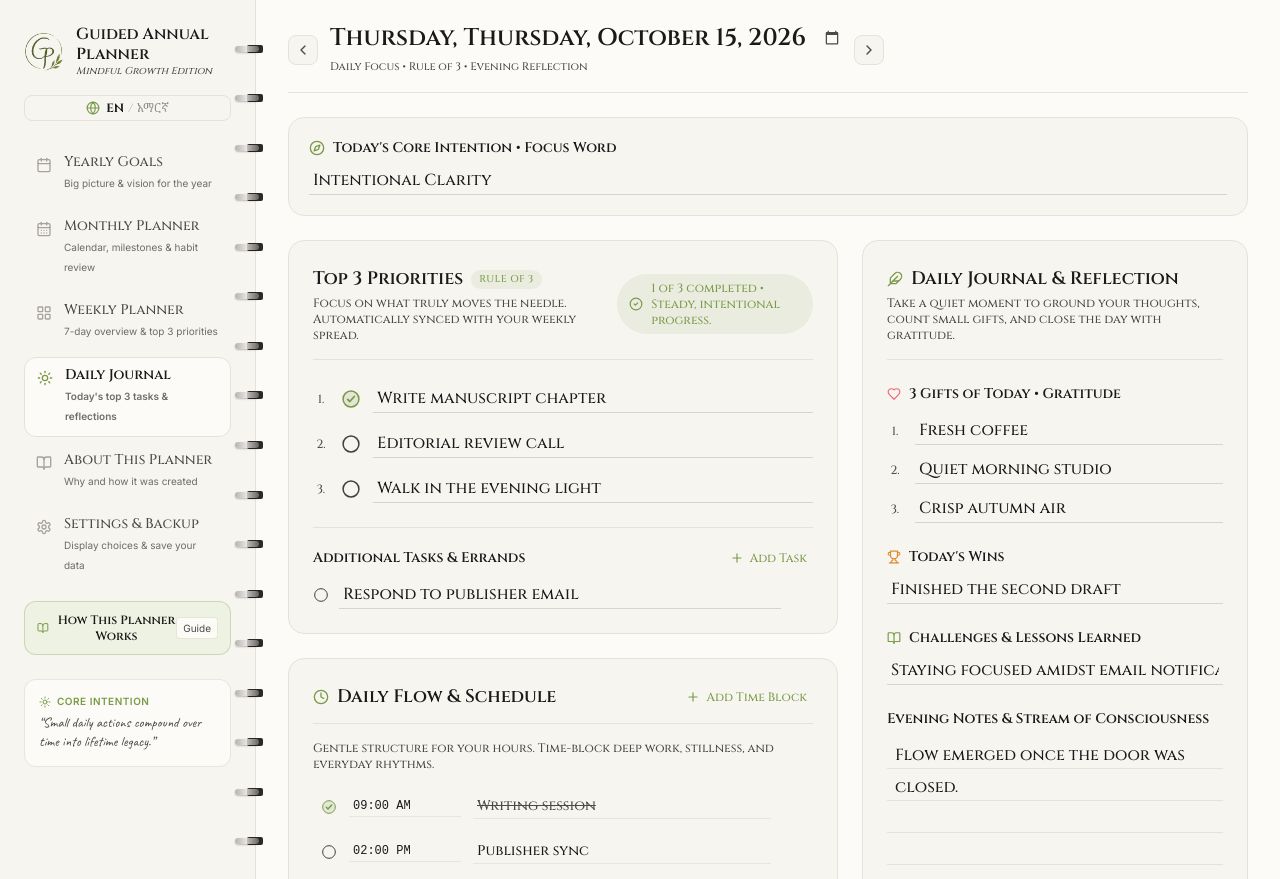
Test: DailyViewPage Component › allows adding and removing secondary tasks
Expected: the field showing "Respond to publisher email" below "Additional Tasks & Errands" is shown, [339,580,781,609]
Click the button "Add Task".
click(768, 558)  # box [724,548,813,568]
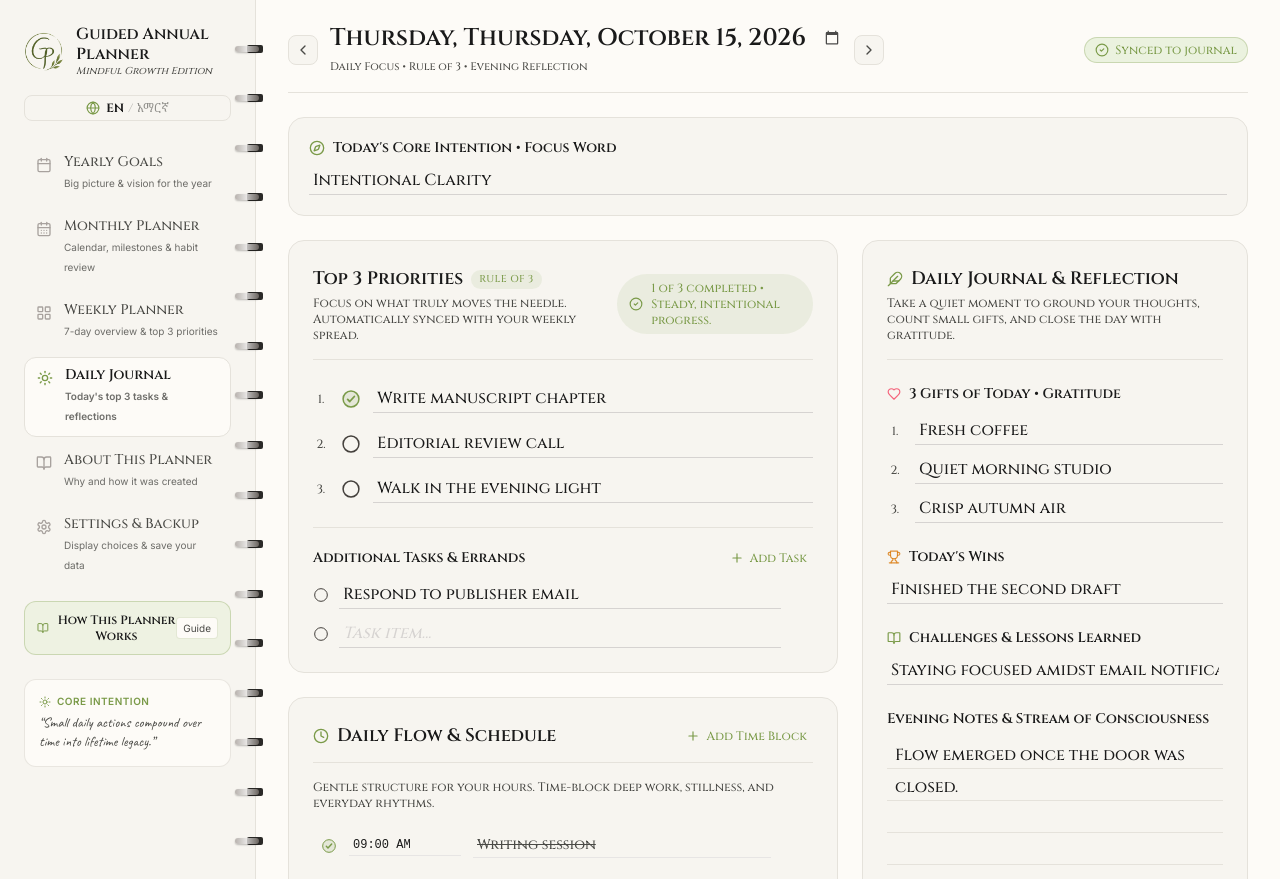
Expected: the number of fields with placeholder "Task item..." is 2, [339,580,781,609]; [339,619,781,648]
